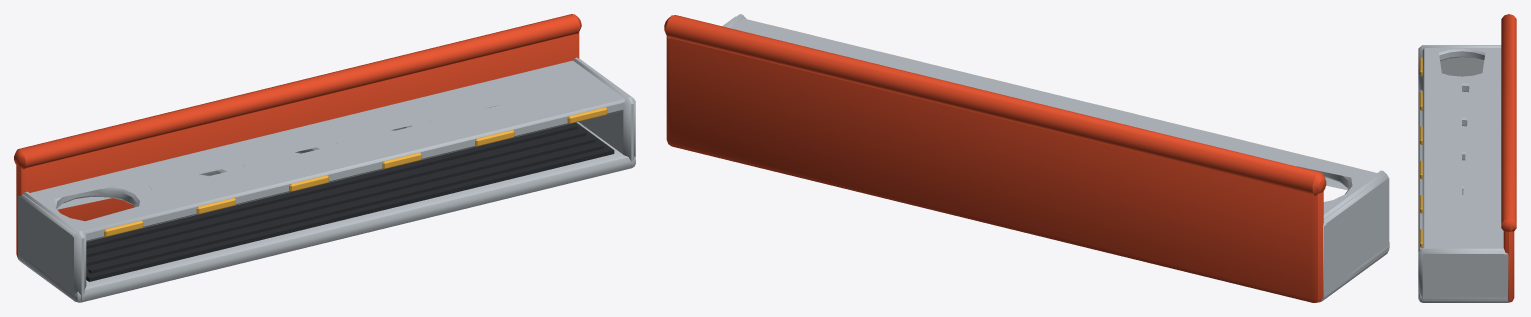
The model's file is Kitchen_SauceRail6.fbx.
3 renders of one model, left to right at view 1: azimuth 30°, elevation 25°; view 2: azimuth 150°, elevation 25°; view 3: azimuth 270°, elevation 25°, orthographic. The views are drawn at different scales.
Visible parts, largest first — view 1: Caddy, Riser, Mat; view 2: Riser, Caddy; view 3: Caddy, Riser.
Boxes of the visible parts, x1,y1,x2,y2 form: Caddy: [17, 57, 635, 302]; Riser: [14, 14, 581, 259]; Mat: [86, 122, 614, 281]; Riser: [664, 15, 1326, 302]; Caddy: [722, 14, 1389, 301]; Caddy: [1418, 45, 1508, 302]; Riser: [1501, 14, 1516, 302].
Size of the model in its own units: 460 by 87.5 by 92.13.
